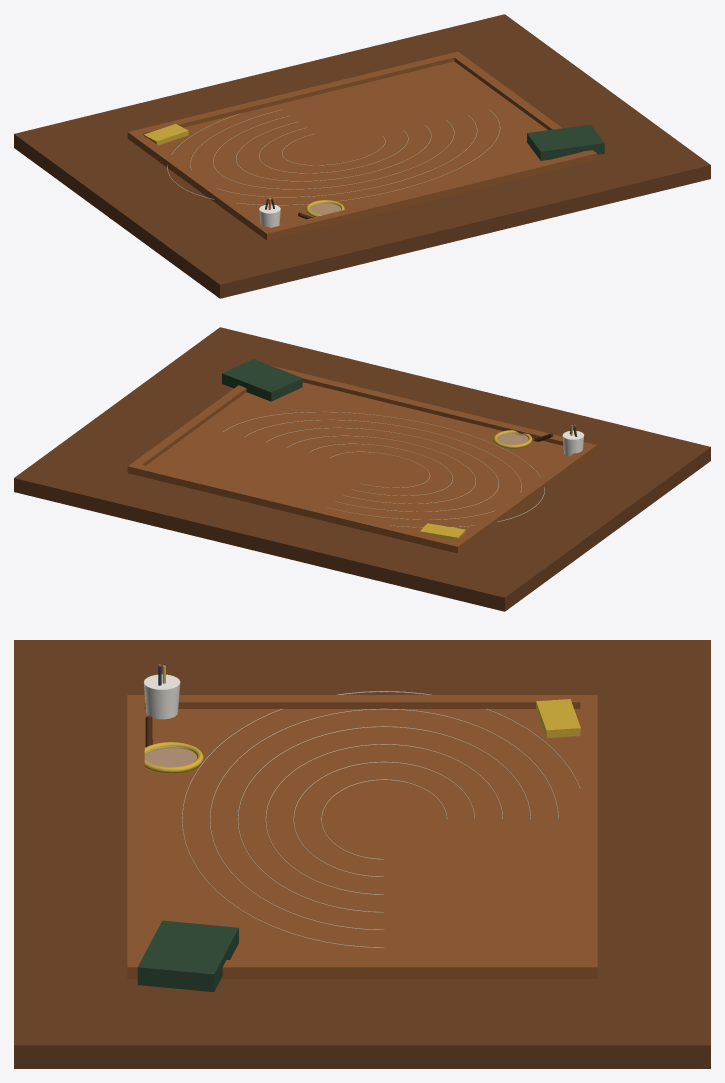
File: map_board.glb
3 renders of one model, top to bottom at view 1: azimuth 30°, elevation 25°; view 2: azimuth 150°, elevation 25°; view 3: azimuth 270°, elevation 25°, orthographic. The views are drawn at different scales.
Parts seen in each view (by area): view 1: map_board; view 2: map_board; view 3: map_board.
Boxes of the visible parts, x1,y1,x2,y2 form: map_board: (14, 14, 710, 298); map_board: (14, 327, 710, 611); map_board: (14, 640, 710, 1068).
Size of the model in its own units: 22 by 1.92 by 16.
